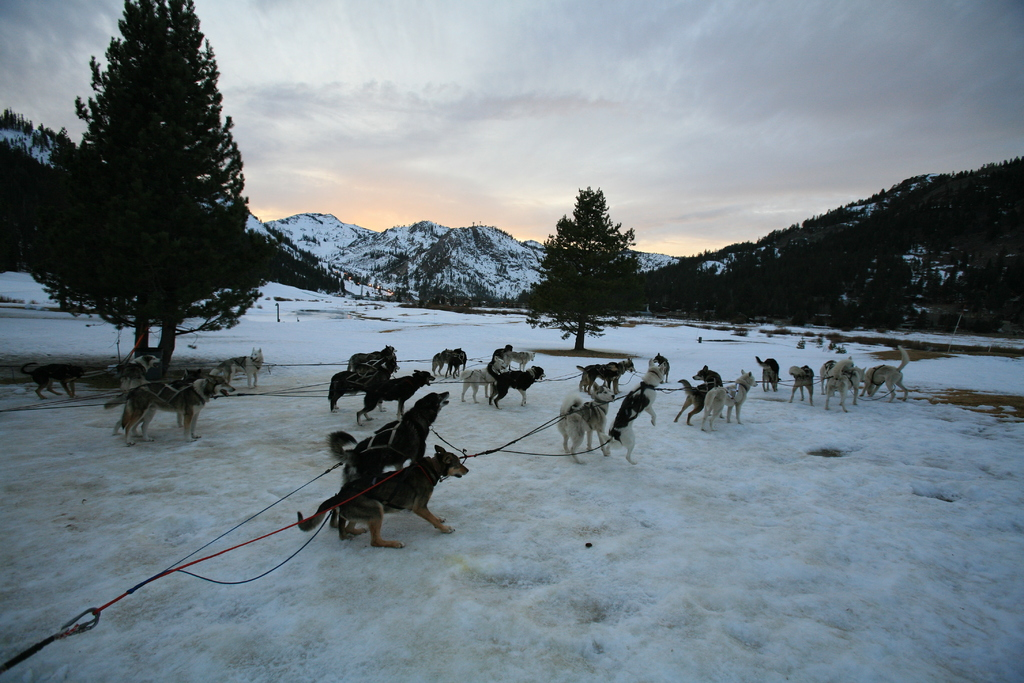Tree: (0, 0, 1024, 369), (16, 0, 270, 368), (515, 186, 649, 350)
